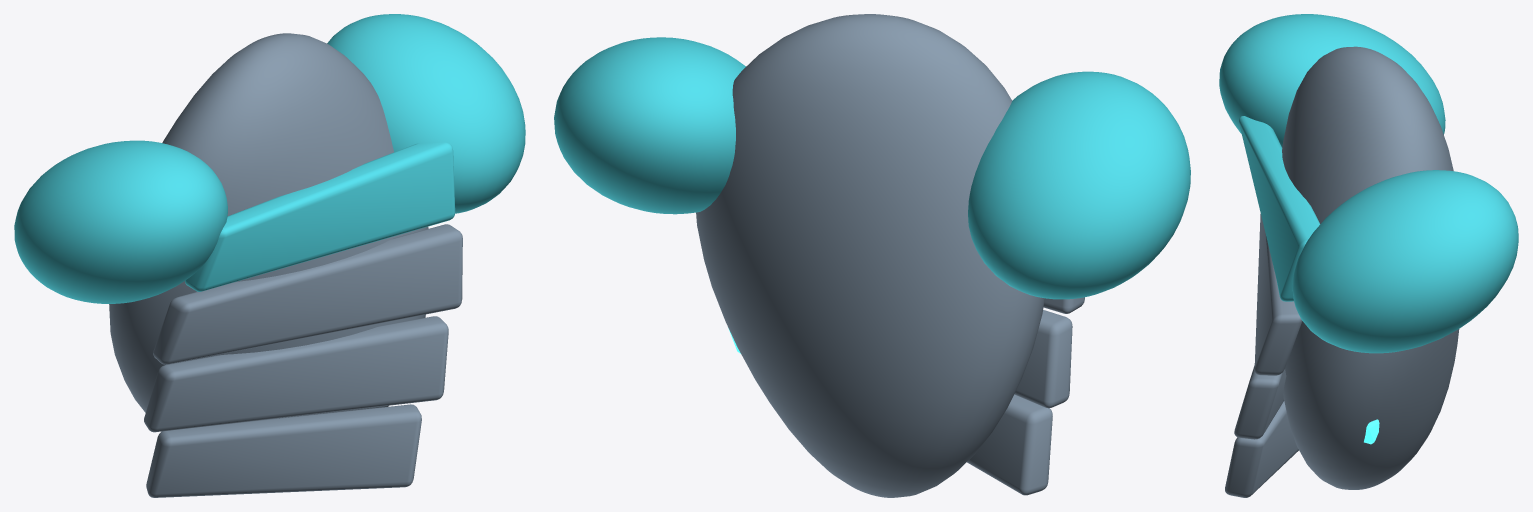
Rendered from cuirass_v6.glb.
3 renders of one model, left to right at view 1: azimuth 30°, elevation 25°; view 2: azimuth 150°, elevation 25°; view 3: azimuth 270°, elevation 25°, orthographic. The views are drawn at different scales.
Visible parts, largest first — view 1: PLATE_CHEST_PRIMARY, LAYERED_PAULDRON_ACCENT, ARTICULATED_LAME_PRIMARY, ARTICULATED_LAME_PRIMARY.001, LAYERED_PAULDRON_ACCENT.001, ARTICULATED_LAME_PRIMARY.002, ARTICULATED_LAME_ACCENT; view 2: PLATE_CHEST_PRIMARY, LAYERED_PAULDRON_ACCENT, LAYERED_PAULDRON_ACCENT.001, ARTICULATED_LAME_PRIMARY.002, ARTICULATED_LAME_PRIMARY.001; view 3: PLATE_CHEST_PRIMARY, LAYERED_PAULDRON_ACCENT.001, LAYERED_PAULDRON_ACCENT, ARTICULATED_LAME_ACCENT, ARTICULATED_LAME_PRIMARY, ARTICULATED_LAME_PRIMARY.002, ARTICULATED_LAME_PRIMARY.001.
Part boxes in pixels (bbox=[...]): PLATE_CHEST_PRIMARY: bbox=[109, 33, 428, 418]; LAYERED_PAULDRON_ACCENT: bbox=[14, 140, 227, 303]; ARTICULATED_LAME_PRIMARY: bbox=[153, 224, 462, 364]; ARTICULATED_LAME_PRIMARY.001: bbox=[144, 316, 448, 432]; LAYERED_PAULDRON_ACCENT.001: bbox=[327, 14, 525, 213]; ARTICULATED_LAME_PRIMARY.002: bbox=[146, 404, 421, 497]; ARTICULATED_LAME_ACCENT: bbox=[185, 142, 455, 291]; PLATE_CHEST_PRIMARY: bbox=[696, 14, 1044, 497]; LAYERED_PAULDRON_ACCENT: bbox=[968, 71, 1190, 299]; LAYERED_PAULDRON_ACCENT.001: bbox=[554, 37, 745, 214]; ARTICULATED_LAME_PRIMARY.002: bbox=[967, 394, 1052, 495]; ARTICULATED_LAME_PRIMARY.001: bbox=[1014, 310, 1072, 408]; PLATE_CHEST_PRIMARY: bbox=[1282, 46, 1459, 489]; LAYERED_PAULDRON_ACCENT.001: bbox=[1292, 170, 1518, 353]; LAYERED_PAULDRON_ACCENT: bbox=[1219, 14, 1445, 147]; ARTICULATED_LAME_ACCENT: bbox=[1239, 116, 1320, 301]; ARTICULATED_LAME_PRIMARY: bbox=[1254, 214, 1302, 375]; ARTICULATED_LAME_PRIMARY.002: bbox=[1225, 401, 1298, 497]; ARTICULATED_LAME_PRIMARY.001: bbox=[1234, 365, 1286, 439].
Size of the model in its own units: 2.69 by 2.14 by 1.38.
